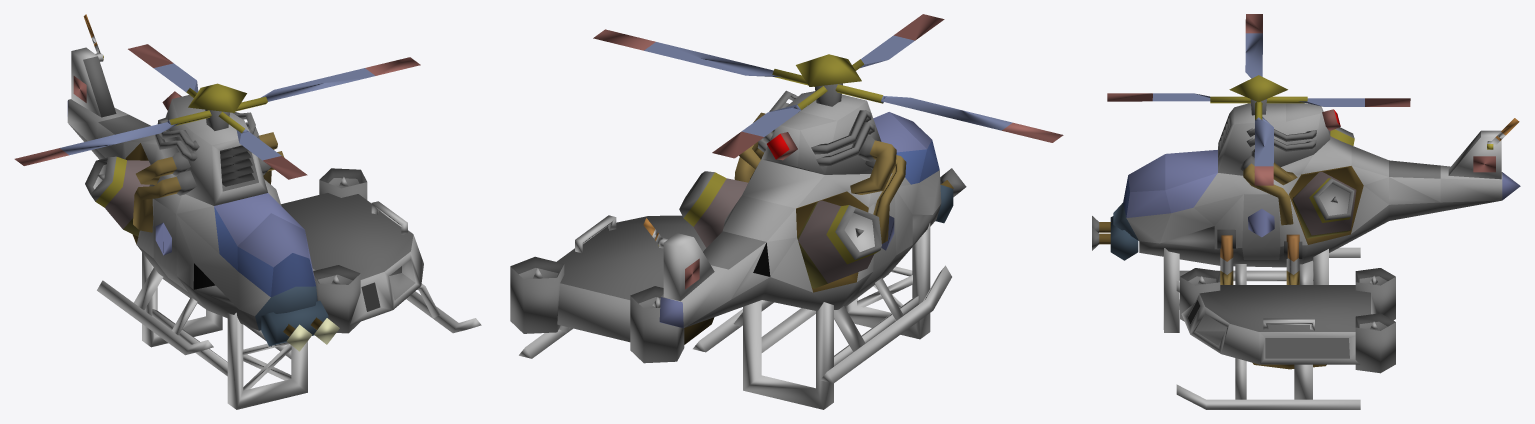
The model's file is bzhf.hrc.gltf.
3 renders of one model, left to right at view 1: azimuth 30°, elevation 25°; view 2: azimuth 150°, elevation 25°; view 3: azimuth 270°, elevation 25°, orthographic. The views are drawn at different scales.
Parts seen in each view (by area): view 1: bzhfBone0_non_2, bzhfBone4_meinrote; view 2: bzhfBone0_non_2, bzhfBone4_meinrote; view 3: bzhfBone0_non_2, bzhfBone4_meinrote.
Part boxes in pixels (<box>): bzhfBone0_non_2: <box>67,47,481,409</box>; bzhfBone4_meinrote: <box>14,44,420,179</box>; bzhfBone0_non_2: <box>510,90,966,409</box>; bzhfBone4_meinrote: <box>593,14,1063,158</box>; bzhfBone0_non_2: <box>1092,103,1520,409</box>; bzhfBone4_meinrote: <box>1107,14,1410,185</box>.
Size of the model in its own units: 141 by 89.5 by 143.
